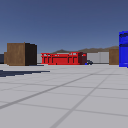blue_basket: (119, 30, 128, 67)
blue_cube: (85, 62, 88, 65)
obstacle: (7, 43, 37, 65), (109, 48, 119, 65), (4, 52, 8, 64)
red_basket: (41, 51, 86, 66)
